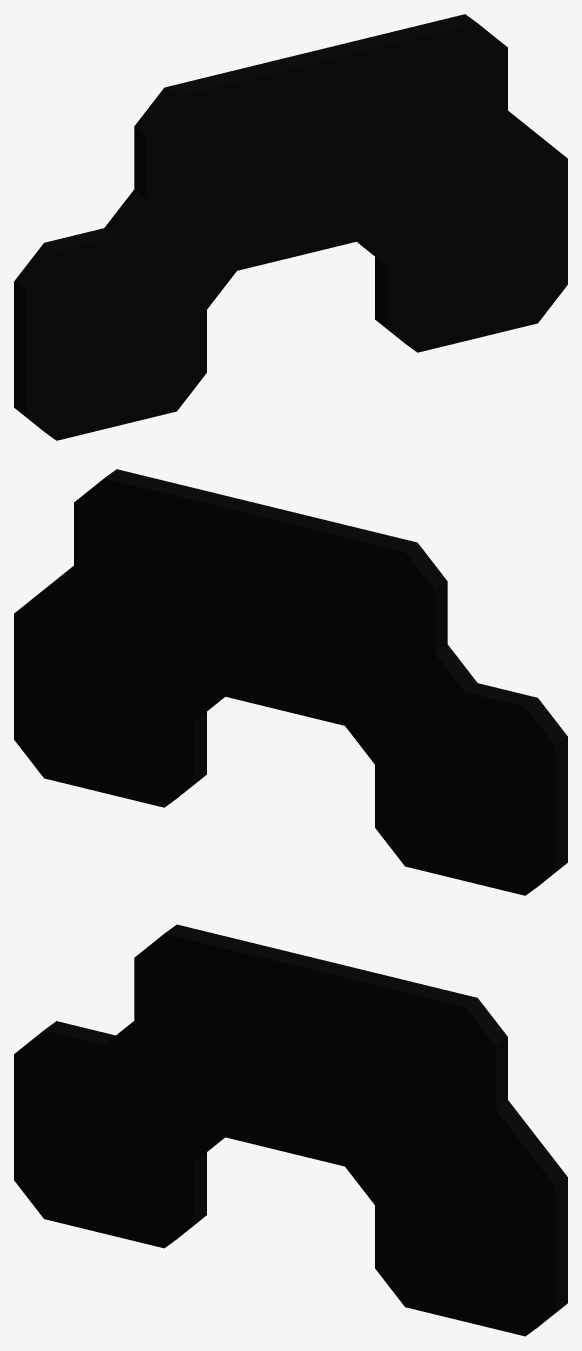
Rendered from beards_chevron.glb.
3 renders of one model, top to bottom at view 1: azimuth 30°, elevation 25°; view 2: azimuth 150°, elevation 25°; view 3: azimuth 330°, elevation 25°, orthographic.
Visible parts, largest first — view 1: world; view 2: world; view 3: world.
Part boxes in pixels (x1,y1,x2,y2): world: (14,14,567,440); world: (14,469,567,895); world: (14,924,567,1336).
Bounding box in the file's own units: 0.9 × 0.5 × 0.036.
Materials: 1 (1 with a texture image).
